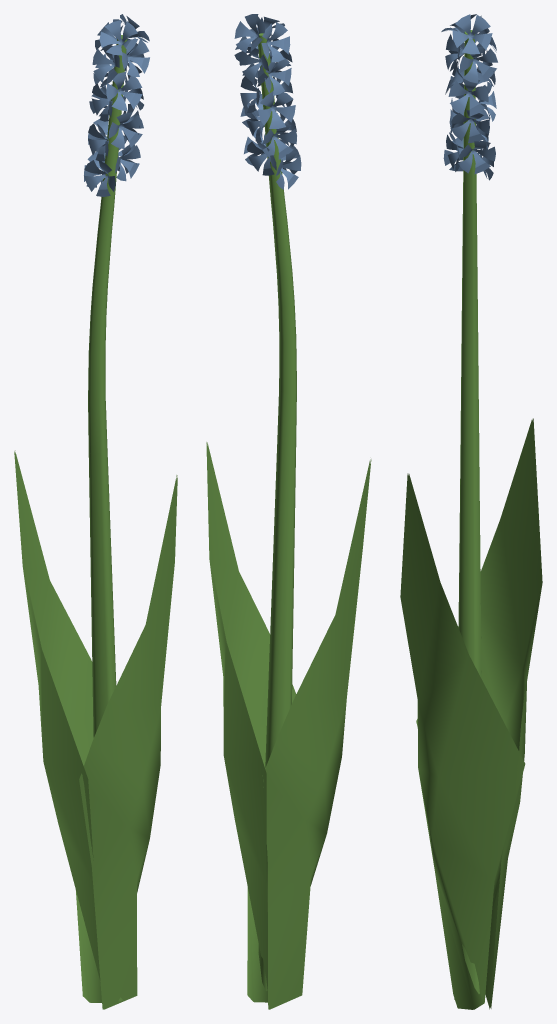
File: flower2_LP.fbx
3 renders of one model, left to right at view 1: azimuth 30°, elevation 25°; view 2: azimuth 210°, elevation 25°; view 3: azimuth 270°, elevation 25°, orthographic.
Parts seen in each view (by area): view 1: flower2; view 2: flower2; view 3: flower2.
Part boxes in pixels (left/top/right/bottom): flower2: left=14, top=14, right=177, bottom=1009; flower2: left=206, top=14, right=371, bottom=1009; flower2: left=400, top=14, right=542, bottom=1009.
Bounding box in the file's own units: 0.5573 × 4.29 × 0.5553.
